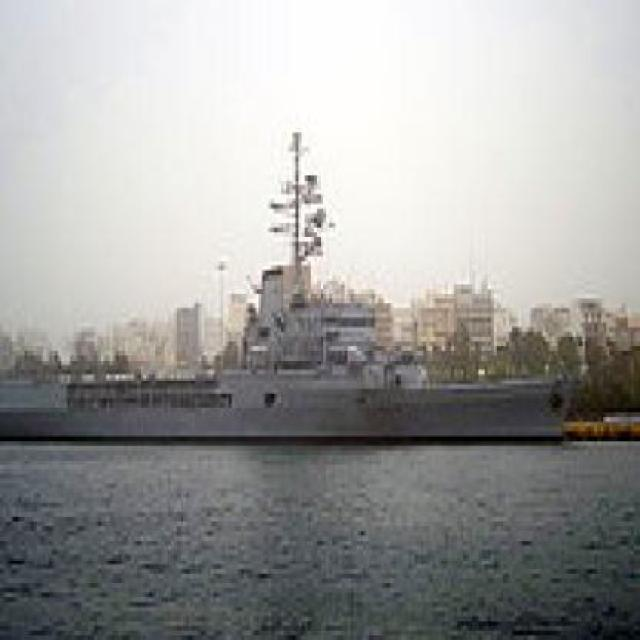warship2: (1, 261, 604, 452)
